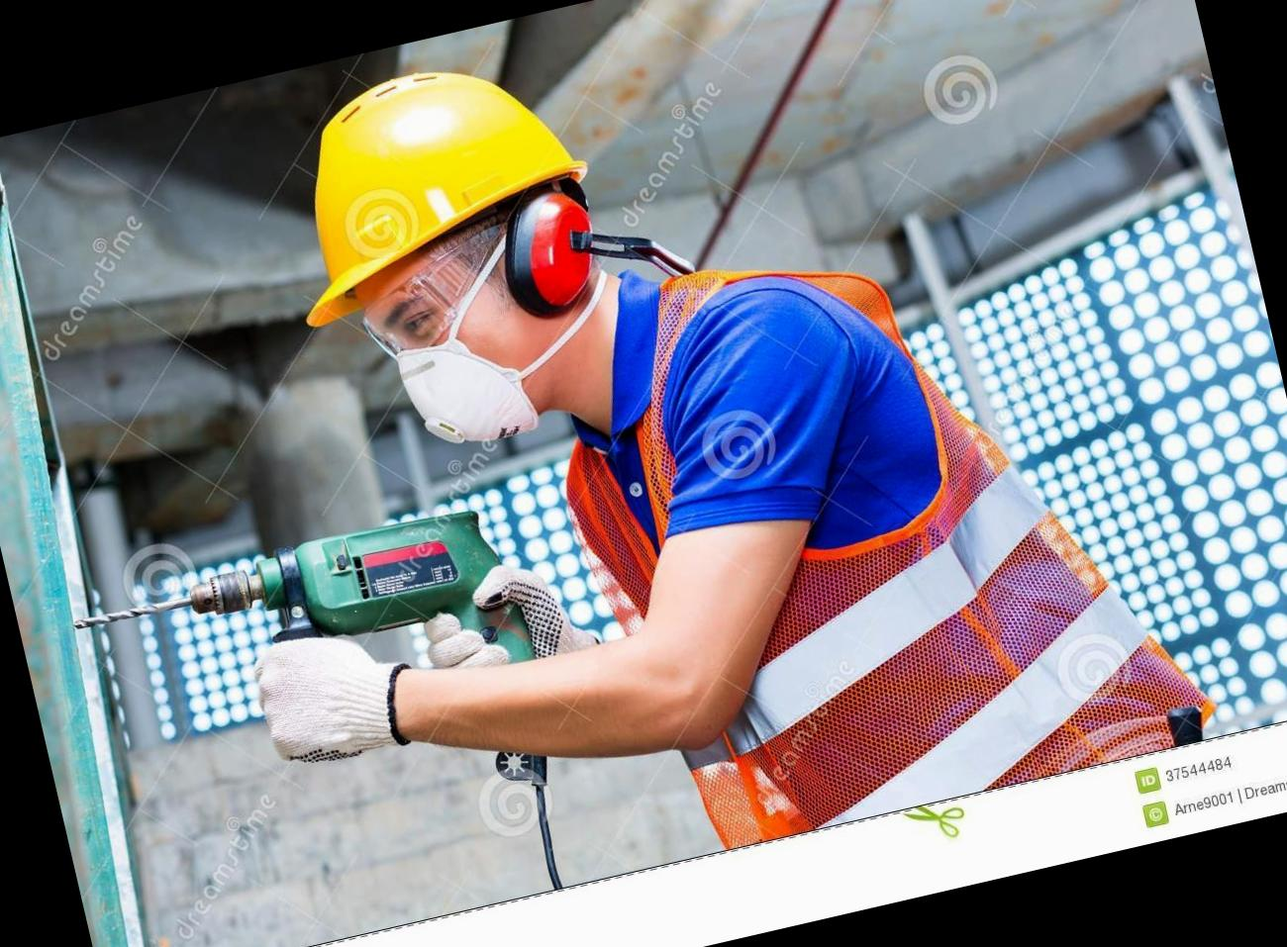helmet: (252, 29, 621, 343)
person: (252, 0, 1151, 907)
